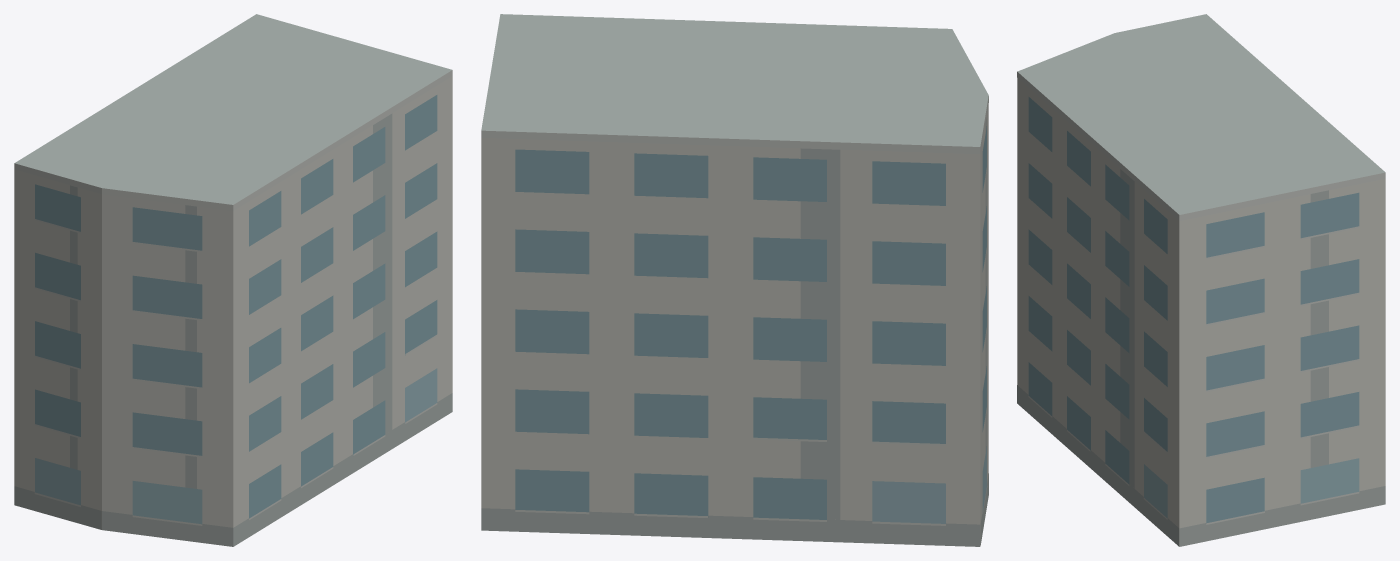
File: survey-upis-32772877.glb
The picture shows the model from 3 angles, left to right: view 1: azimuth 30°, elevation 25°; view 2: azimuth 150°, elevation 25°; view 3: azimuth 270°, elevation 25°; orthographic projection. The views are drawn at different scales.
Parts seen in each view (by area): view 1: survey-upis-32772877.tmp; view 2: survey-upis-32772877.tmp; view 3: survey-upis-32772877.tmp.
Boxes of the visible parts, x1,y1,x2,y2 form: survey-upis-32772877.tmp: [14, 14, 452, 546]; survey-upis-32772877.tmp: [481, 14, 988, 546]; survey-upis-32772877.tmp: [1017, 14, 1385, 546].
Bounding box in the file's own units: 17.29 × 13.3 × 13.39.
